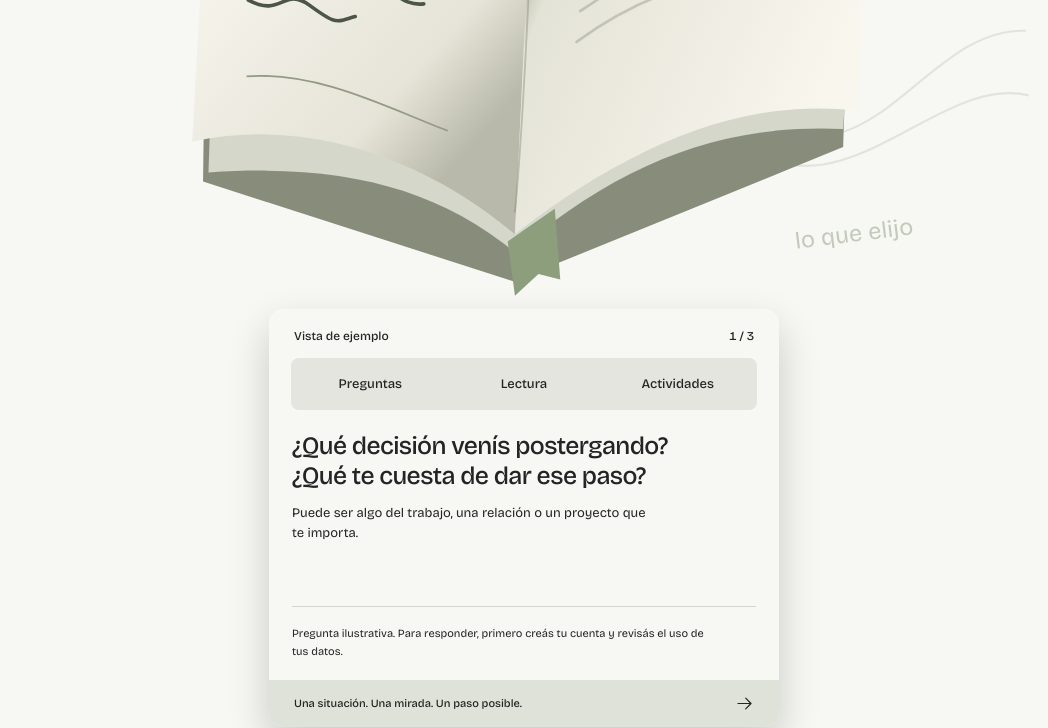
Test: landing example › honors a changing reduced-motion preference while keeping example navigation available
This screenshot has width=1048, height=728.
(page scrolled)
Click the tab "Actividades" at (678, 384), box [602,362,753,406]
(page scrolled)
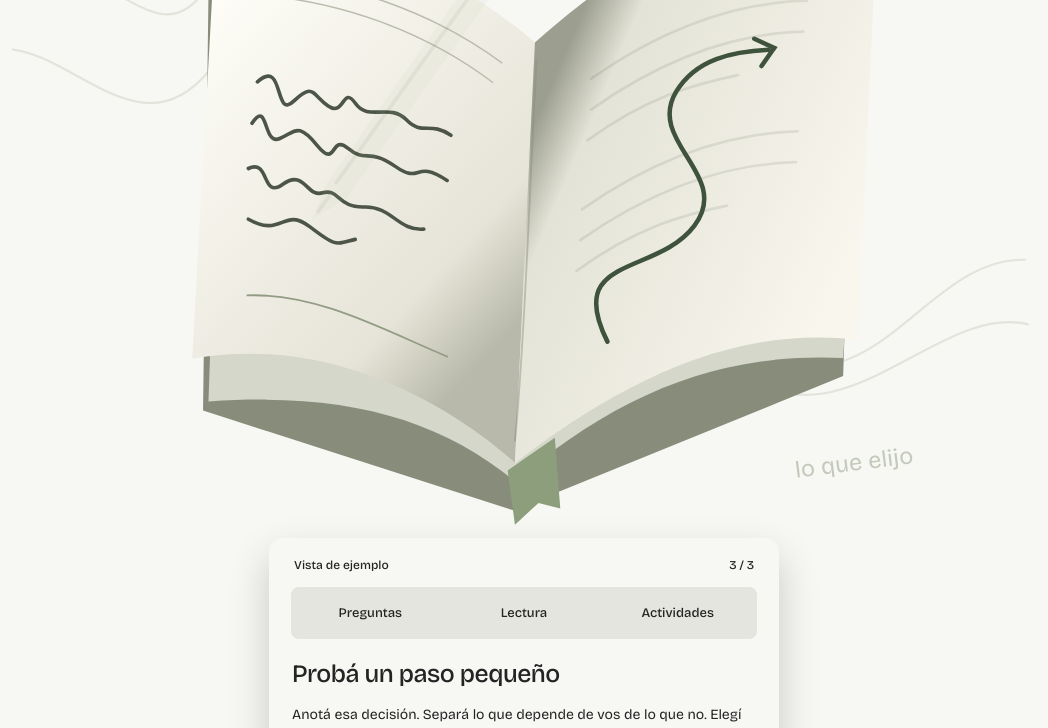
Expected: the panel shows "Probá un paso pequeño", [292,659,560,689]
